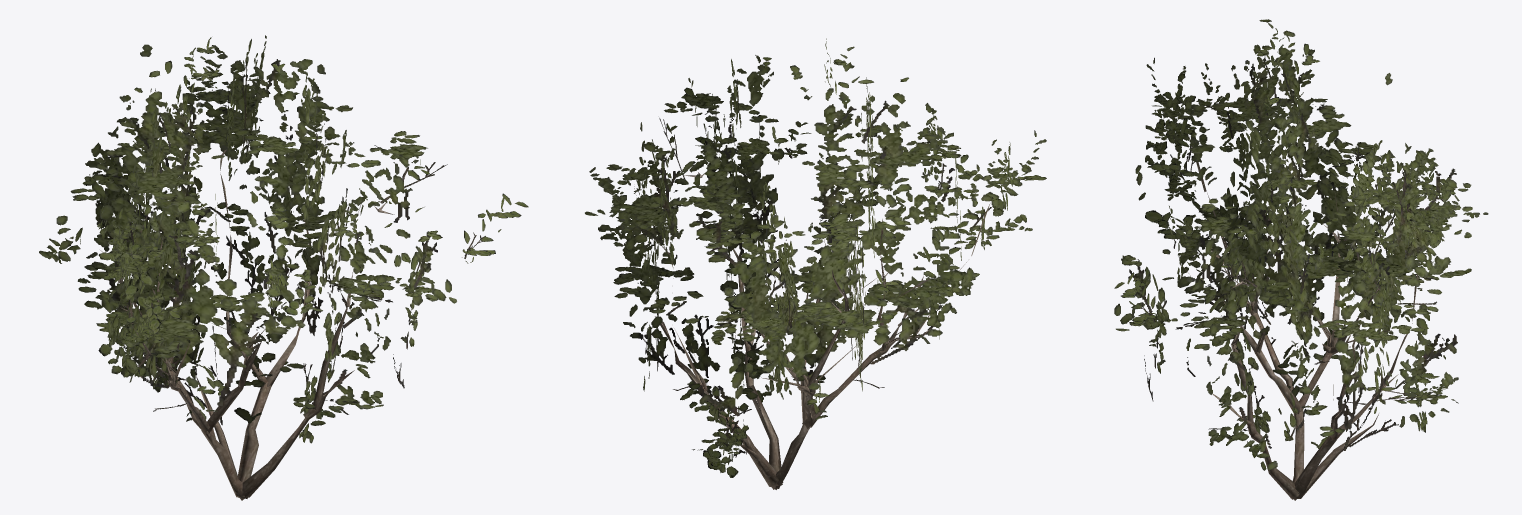
File: bush_c.glb
3 renders of one model, left to right at view 1: azimuth 30°, elevation 25°; view 2: azimuth 150°, elevation 25°; view 3: azimuth 270°, elevation 25°, orthographic. The views are drawn at different scales.
Parts seen in each view (by area): view 1: foliage, searsia_lucida_c_LOD0; view 2: foliage, searsia_lucida_c_LOD0; view 3: foliage, searsia_lucida_c_LOD0.
Part boxes in pixels (<box>): foliage: <box>39,35,528,443</box>; searsia_lucida_c_LOD0: <box>100,56,394,500</box>; foliage: <box>585,38,1046,477</box>; searsia_lucida_c_LOD0: <box>607,171,990,489</box>; foliage: <box>1114,19,1488,470</box>; searsia_lucida_c_LOD0: <box>1179,136,1457,500</box>.
Size of the model in its own units: 1.57 by 1.68 by 1.45.
Materials: 2 (2 with a texture image).
